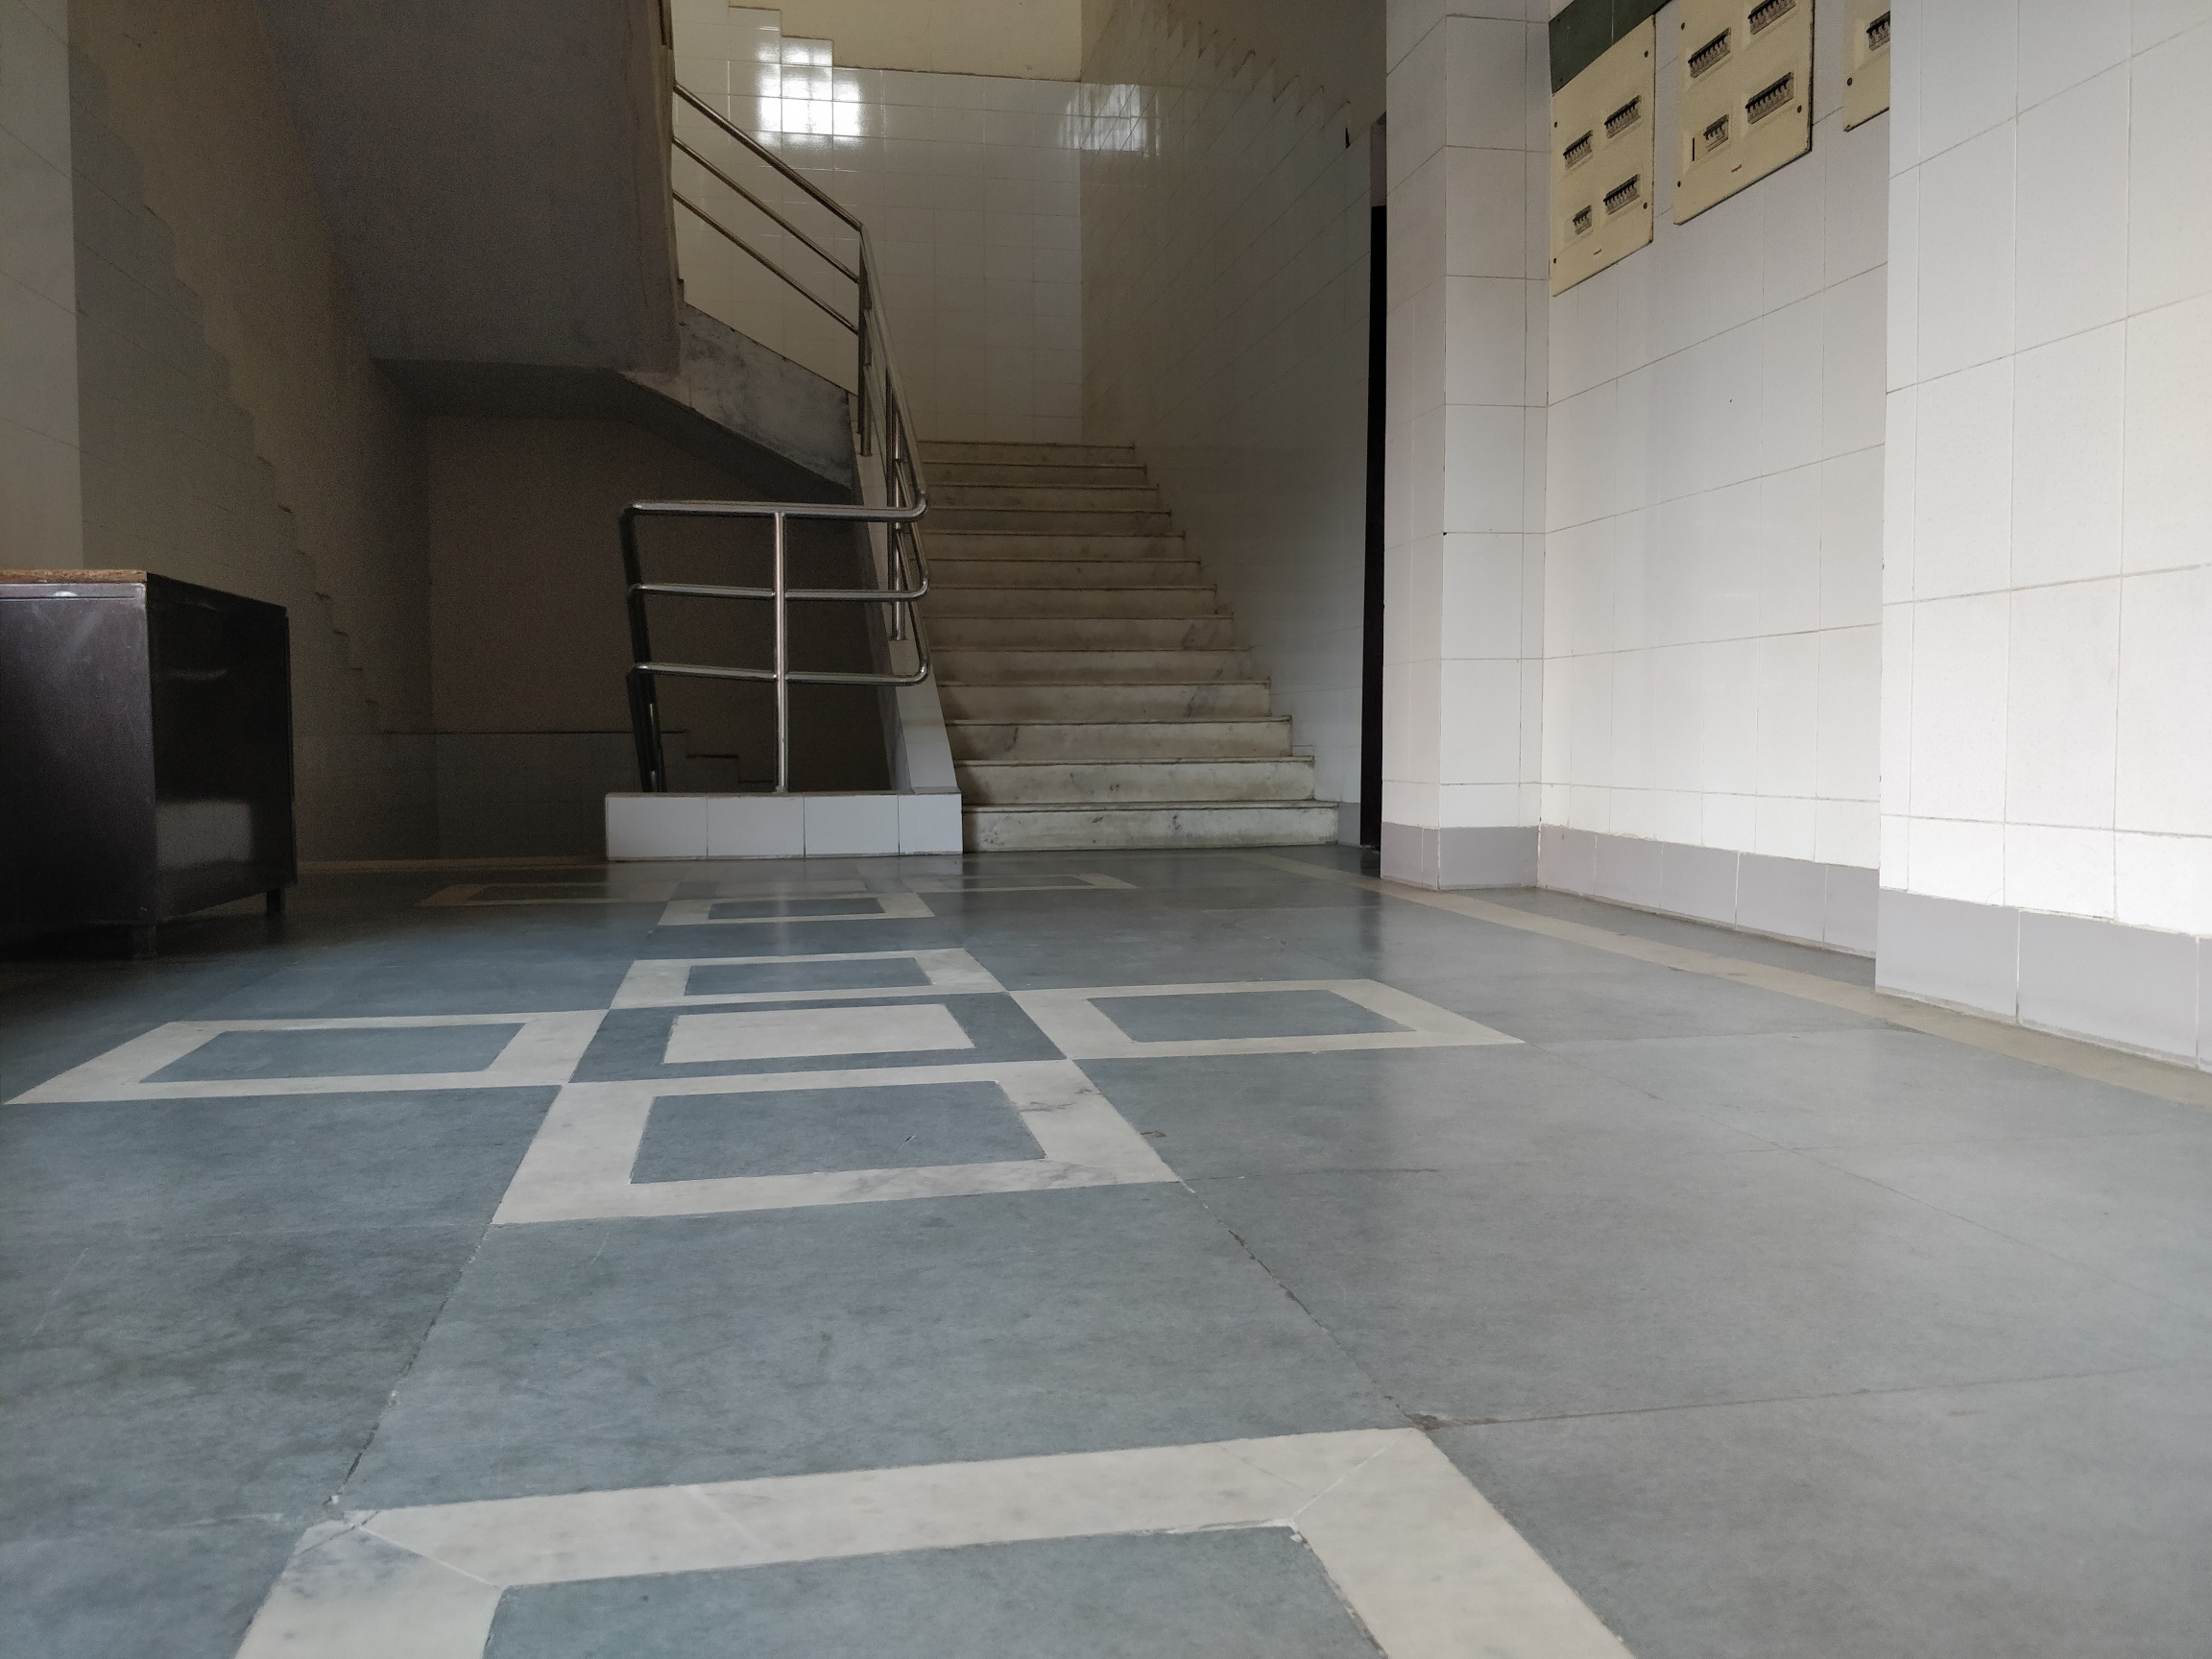stairs_up: (866, 427, 1343, 852)
